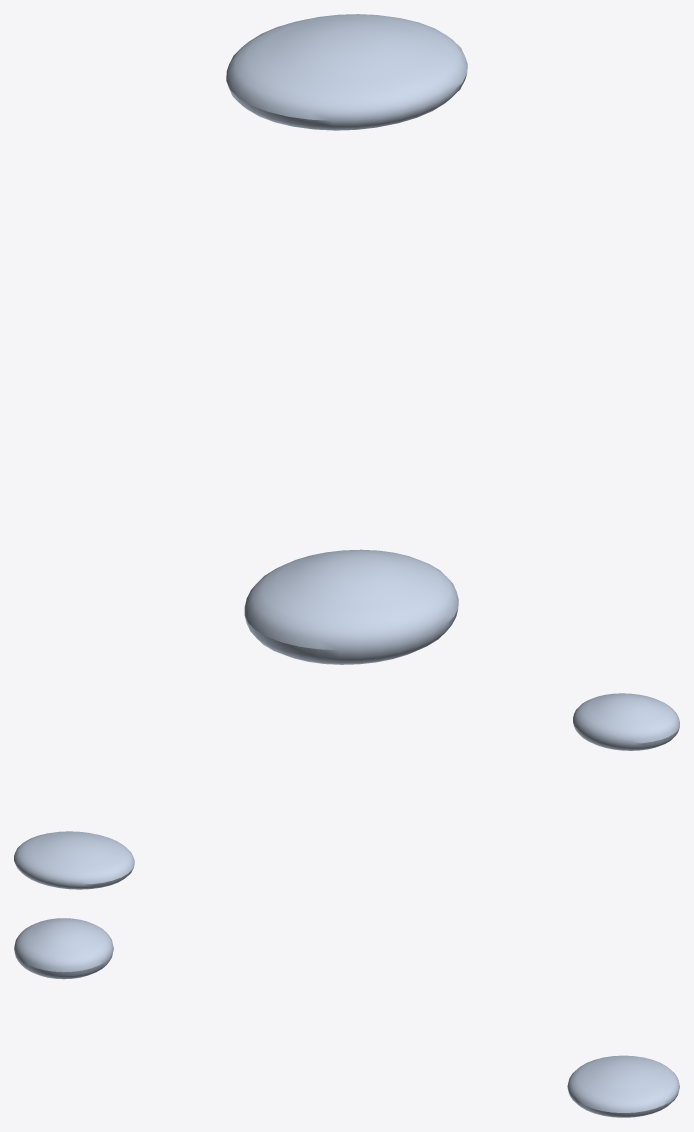
File: lotus_leaf.glb
3 views of the same model, one above another, from view 1: azimuth 30°, elevation 25°; view 2: azimuth 150°, elevation 25°; view 3: azimuth 270°, elevation 25° (orthographic). The views are drawn at different scales.
Size of what is drawn, in the model's own units: 1.02 by 0.0907 by 1.55.
